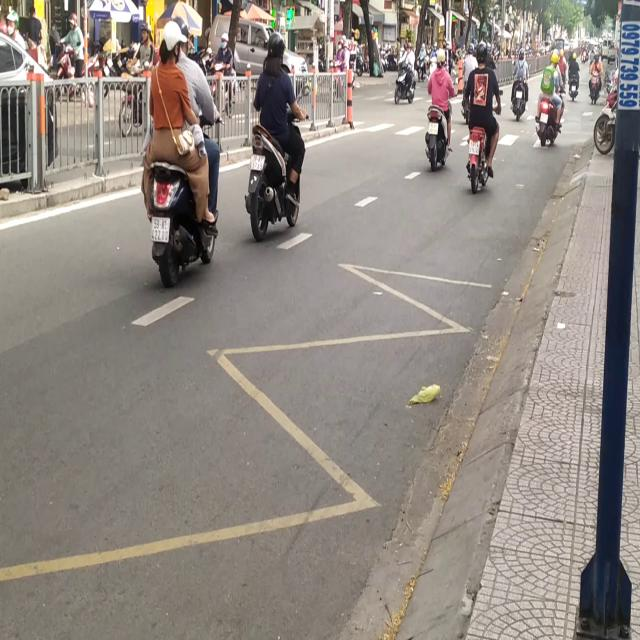bien_trang: (149, 215, 170, 246)
